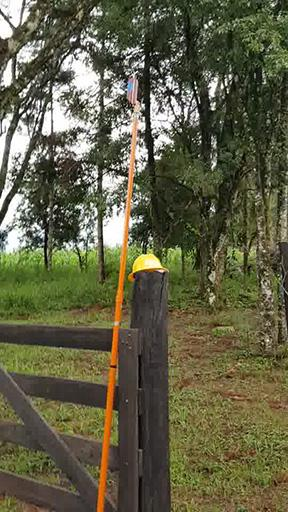Detector_Tensao_Contato: (124, 70, 139, 106)
Vara_Manobra: (97, 105, 140, 512)
